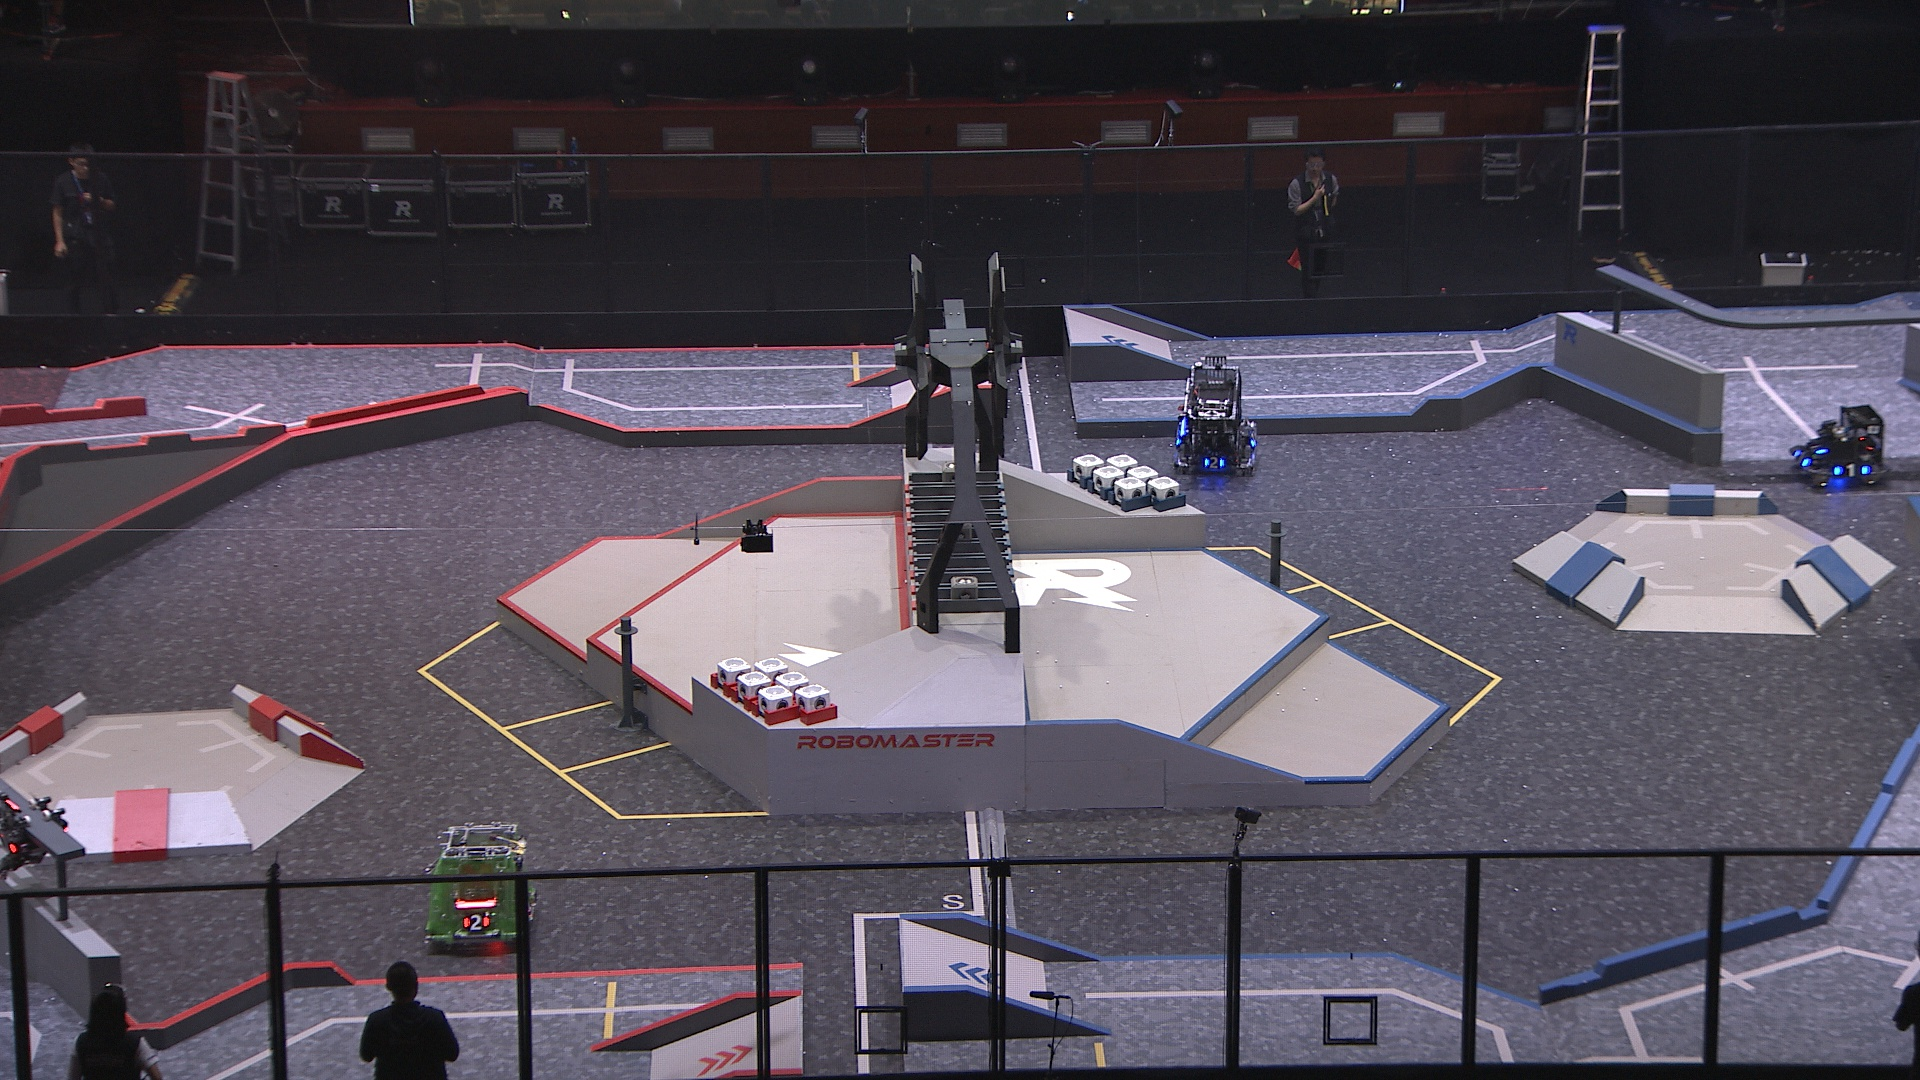armor: (458, 913, 491, 934), (1832, 462, 1871, 479), (1807, 440, 1832, 458), (1793, 447, 1813, 467), (1201, 456, 1225, 469)
car: (423, 818, 541, 956), (1172, 352, 1261, 477), (1788, 400, 1892, 489)
